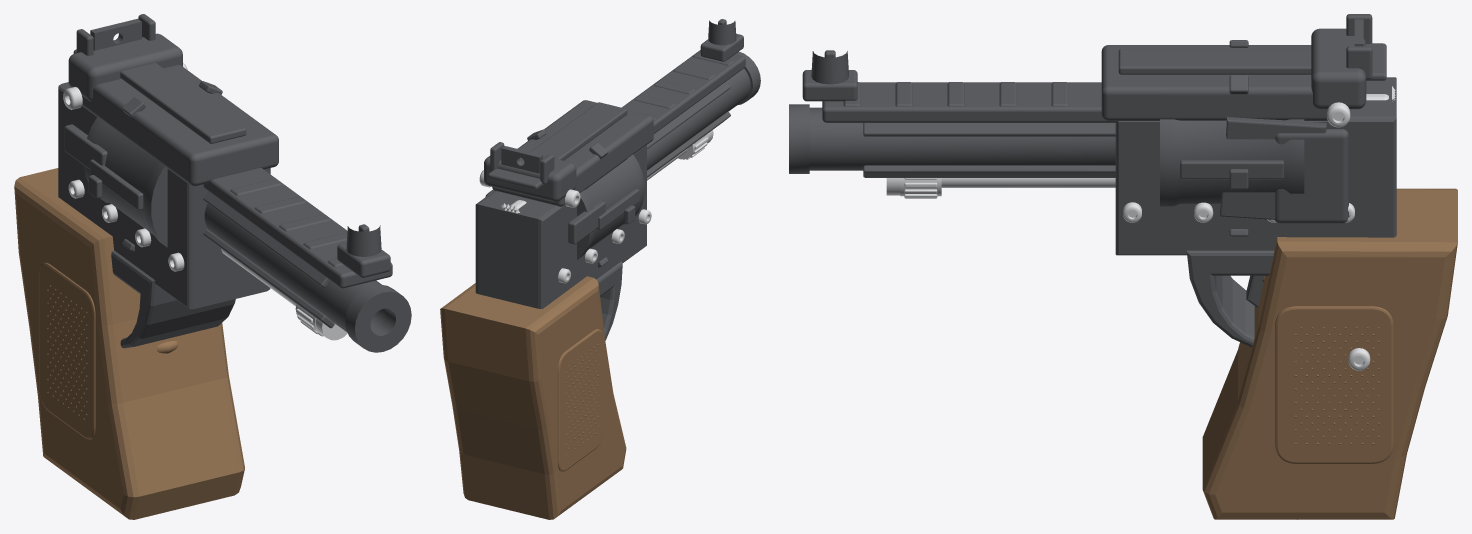
File: webley.glb
3 renders of one model, left to right at view 1: azimuth 30°, elevation 25°; view 2: azimuth 150°, elevation 25°; view 3: azimuth 270°, elevation 25°, orthographic. The views are drawn at different scales.
Parts seen in each view (by area): view 1: break-top-revolver, cylinder/gunmetal; view 2: break-top-revolver, cylinder/gunmetal; view 3: break-top-revolver, cylinder/gunmetal.
Part boxes in pixels (x1,y1,x2,y2): break-top-revolver: (14,14,411,519); cylinder/gunmetal: (83,116,167,247); break-top-revolver: (440,19,760,519); cylinder/gunmetal: (577,154,644,259); break-top-revolver: (789,14,1457,519); cylinder/gunmetal: (1160,119,1304,206).
Size of the model in its own units: 0.0574 by 0.1562 by 0.1947.
